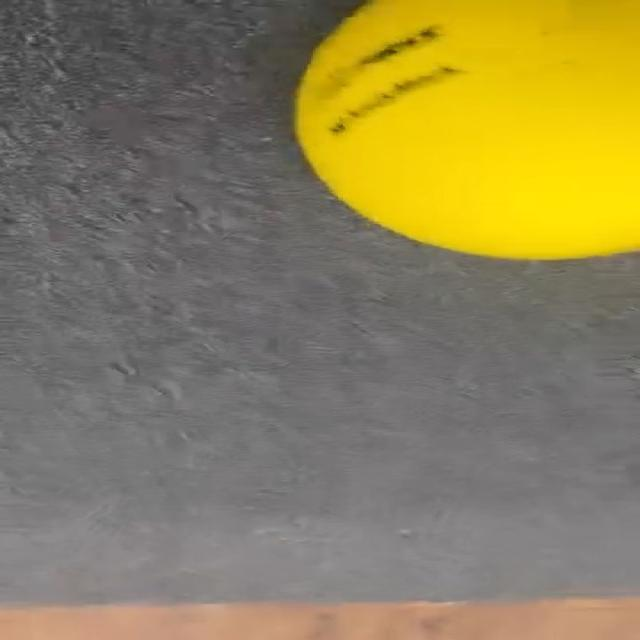Fuels: (290, 0, 640, 264)
